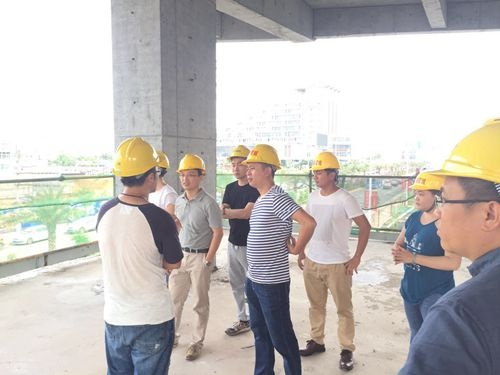yellow: (436, 117, 500, 258), (110, 137, 160, 196), (244, 144, 281, 186), (173, 151, 207, 190), (310, 151, 342, 189), (411, 169, 441, 208), (227, 145, 249, 182)
